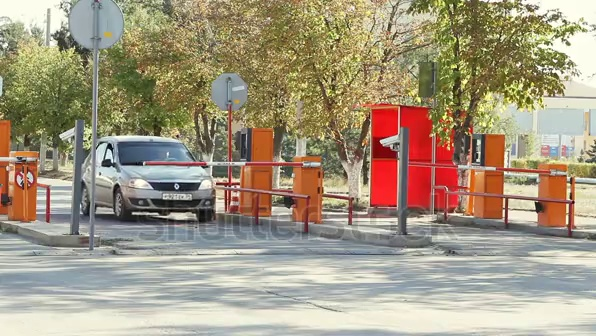licenseplate: (161, 190, 194, 199)
